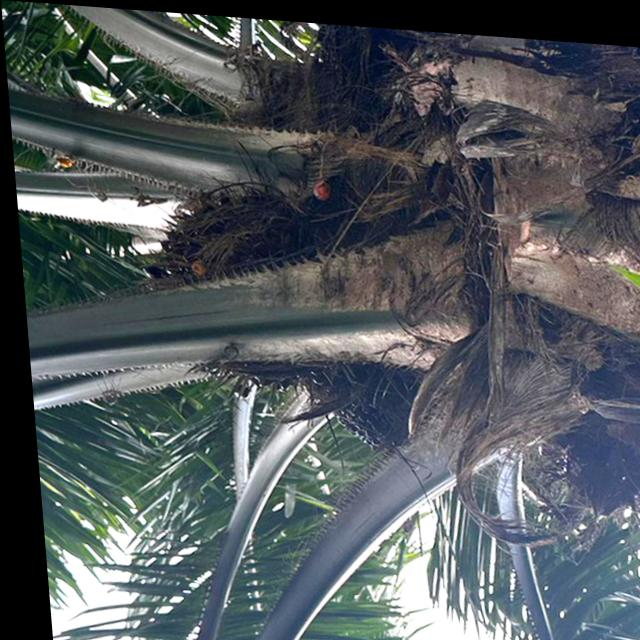unripe: (124, 179, 361, 399), (317, 350, 424, 458)
